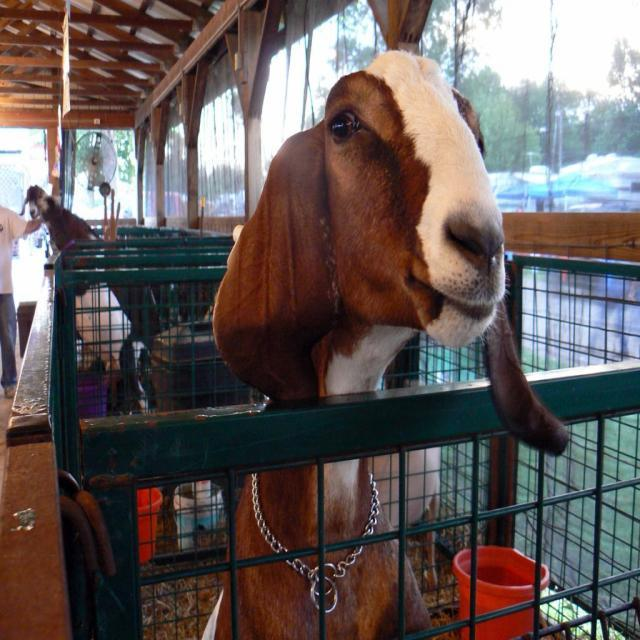Goat: (202, 47, 569, 638), (20, 183, 149, 414)
